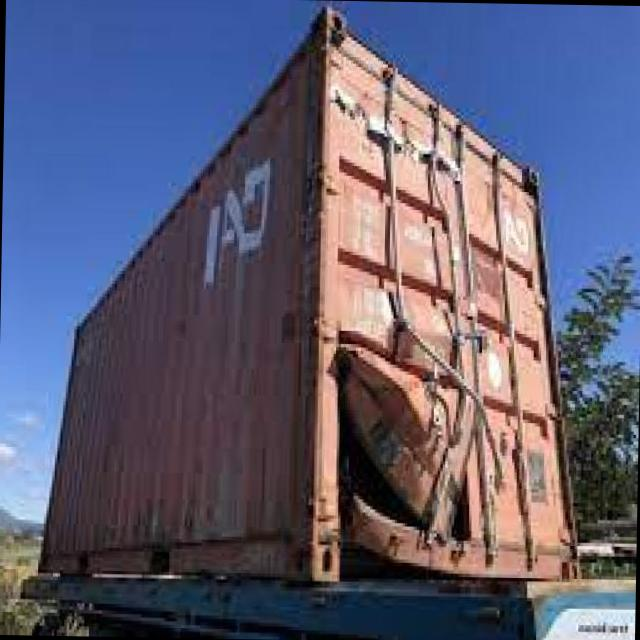Deframe_or_Dent: (317, 295, 544, 586)
